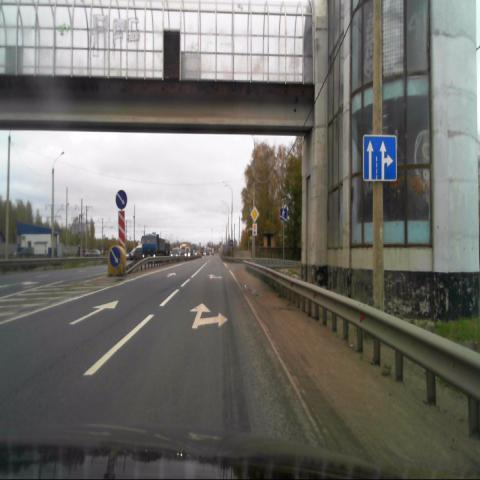2_1: (250, 204, 259, 222)
4_2_1: (115, 189, 128, 210), (110, 247, 120, 267)
5_15_2_2: (363, 135, 396, 182)
6_7: (280, 208, 287, 221)
